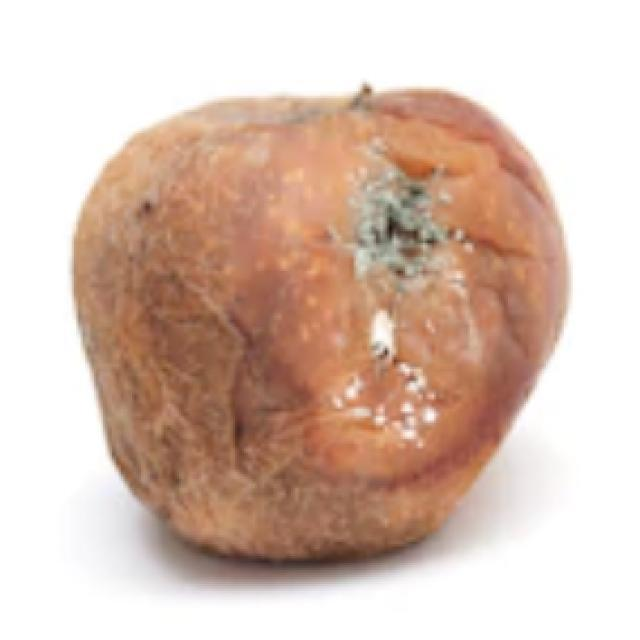Rotten: (85, 102, 568, 575)
